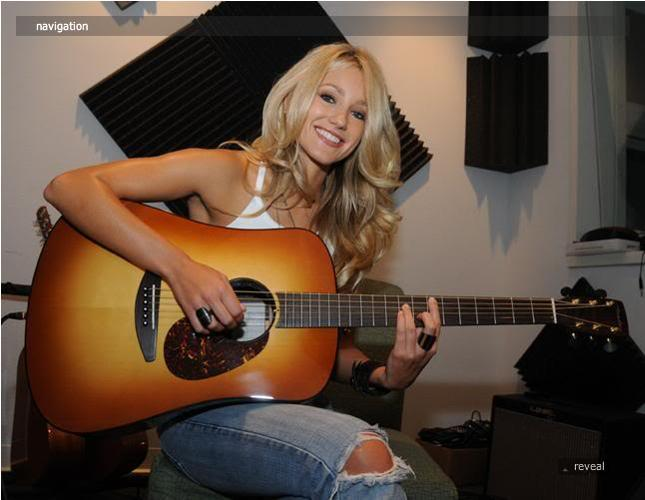person: (44, 44, 442, 498)
